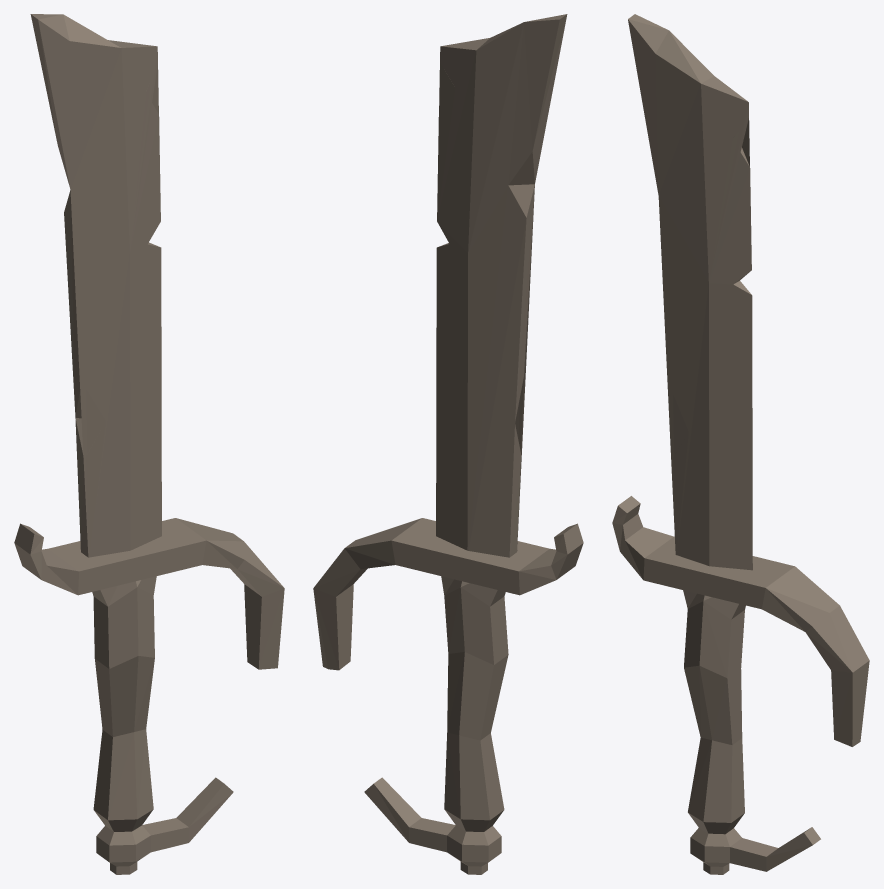
Rendered from SM_Wep_Broken_01.glb.
3 views of the same model, side by side, from view 1: azimuth 30°, elevation 25°; view 2: azimuth 150°, elevation 25°; view 3: azimuth 330°, elevation 25° (orthographic). The views are drawn at different scales.
Visible parts, largest first — view 1: SM_Wep_Broken_01_00; view 2: SM_Wep_Broken_01_00; view 3: SM_Wep_Broken_01_00.
Boxes of the visible parts, x1,y1,x2,y2 form: SM_Wep_Broken_01_00: (14, 14, 284, 874); SM_Wep_Broken_01_00: (313, 14, 583, 874); SM_Wep_Broken_01_00: (612, 14, 869, 874).
Size of the model in its own units: 0.21 by 0.6929 by 0.0456.
1 material, 1 textured.
